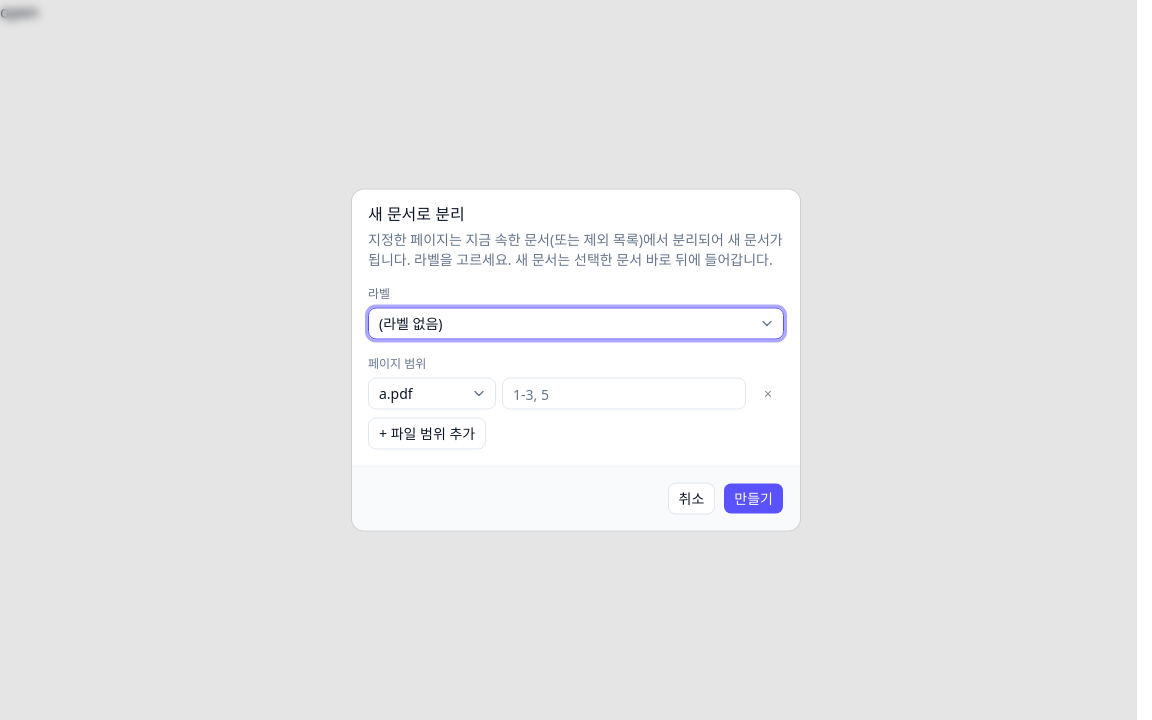
Scenario: NewDocumentDialog 오류와 라벨 › 범위 오류는 라벨을 바꿔도 남고 범위를 고치면 사라진다(select)
The image size is (1152, 720).
Click the button with test id "job-review-new-document-button-create" at (754, 498), box [723, 482, 784, 514]
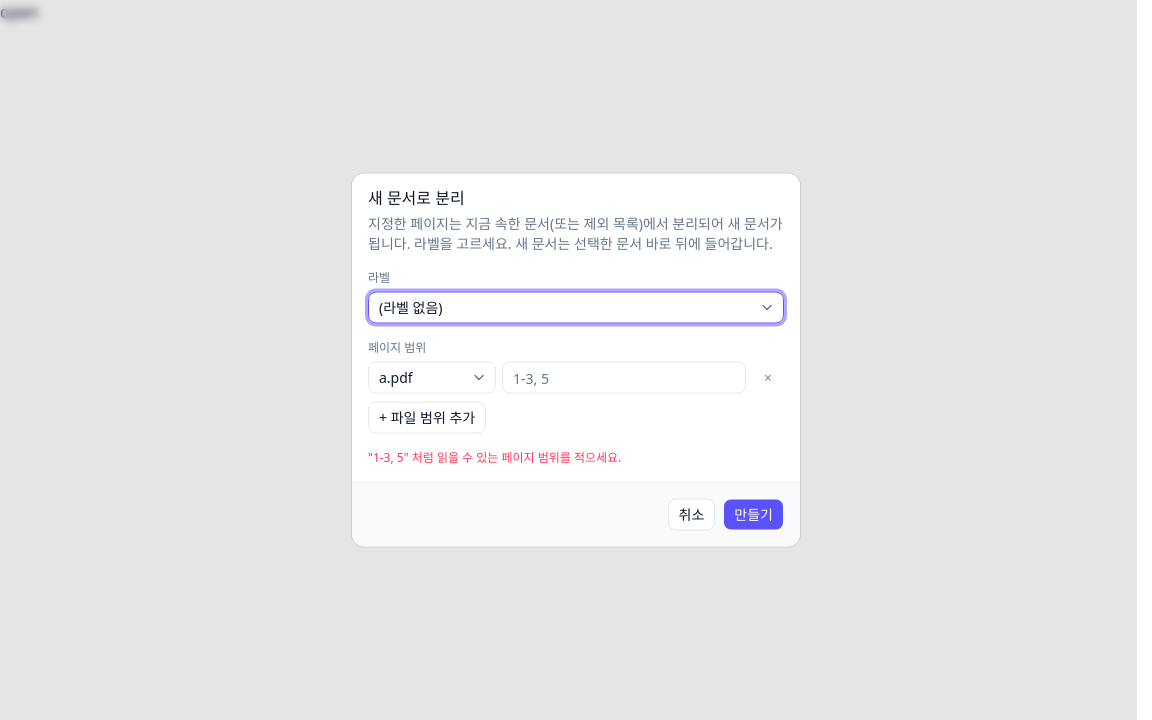
Check: the message reads "\"1-3, 5\" 처럼 읽을 수 있는 페이지 범위를 적으세요.", box [368, 448, 621, 466]
Press Enter
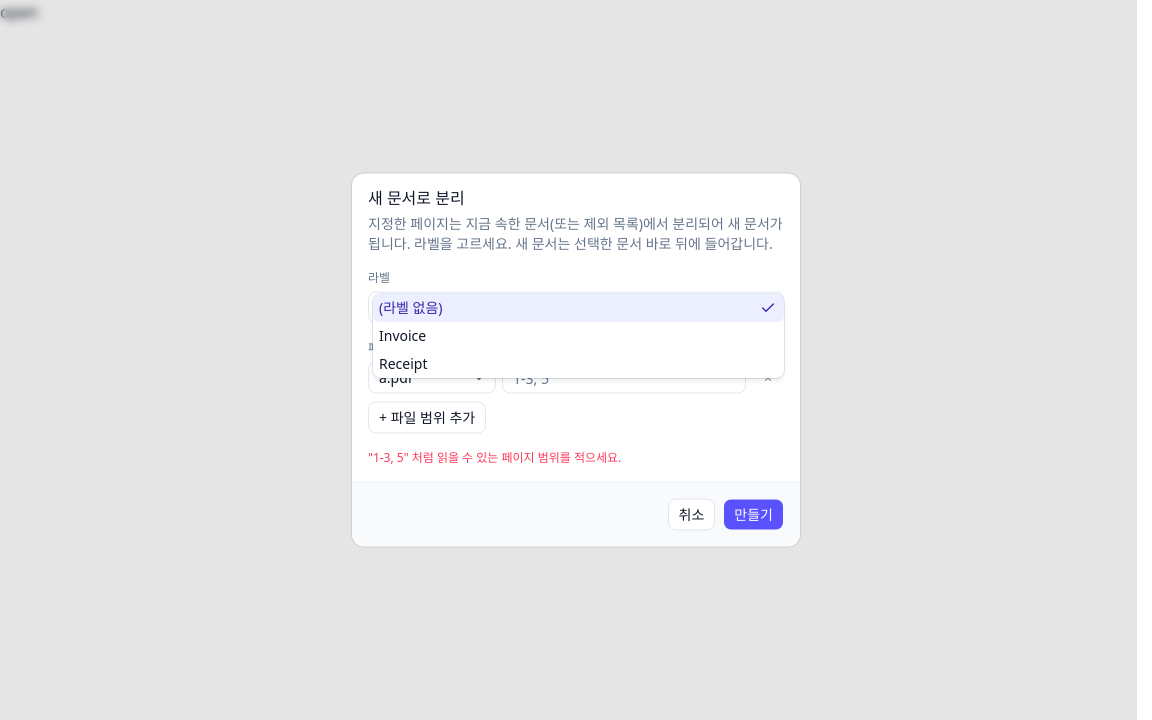
Click the option "Receipt" at (403, 363), box [379, 354, 428, 372]
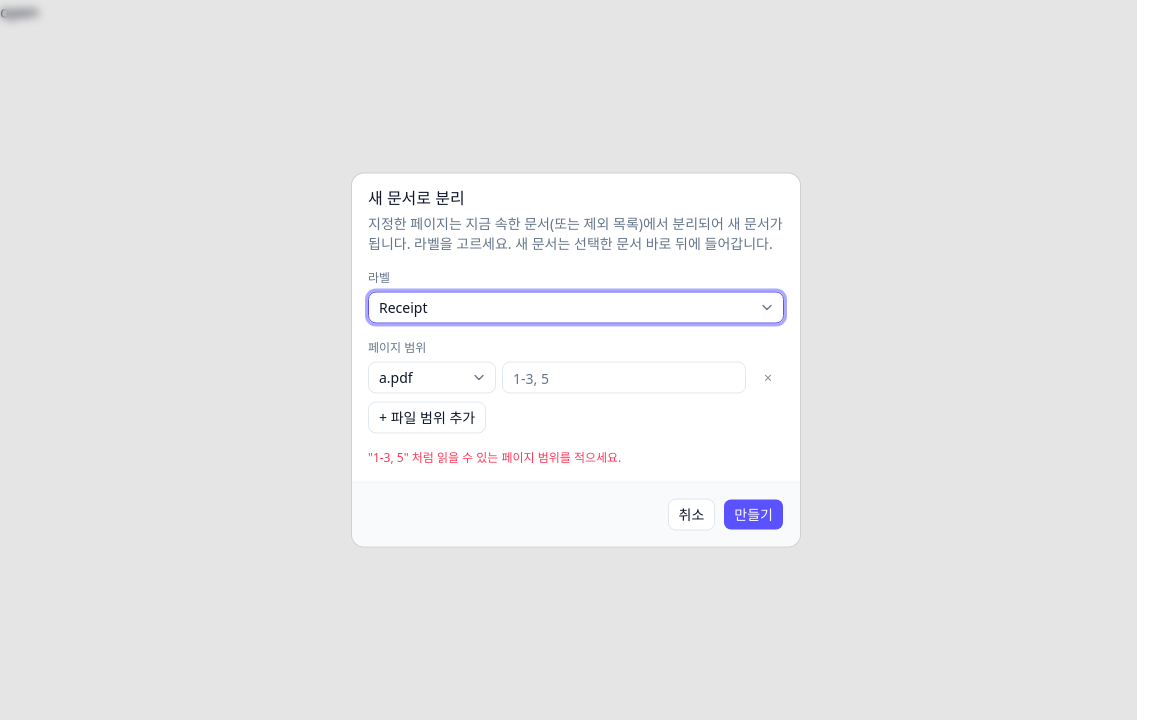
Check: the message reads "\"1-3, 5\" 처럼 읽을 수 있는 페이지 범위를 적으세요.", box [368, 448, 621, 466]
Type "1" into the field with placeholder "1-3, 5" at (624, 378), box [502, 362, 746, 394]
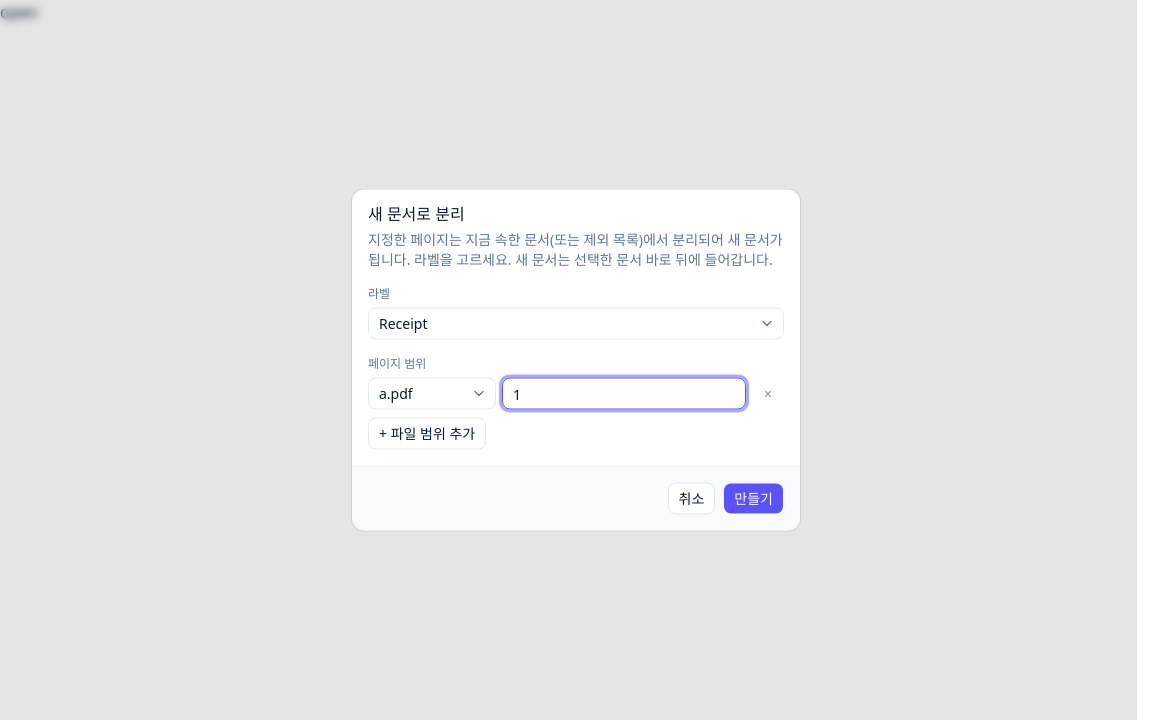
Check: the message "\"1-3, 5\" 처럼 읽을 수 있는 페이지 범위를 적으세요." is gone
